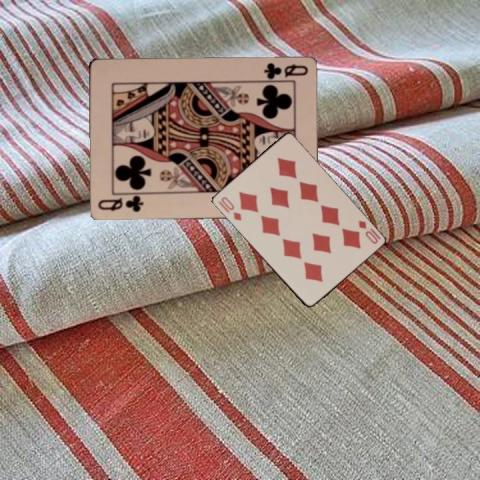10d: (214, 193, 242, 222), (355, 218, 382, 246)
Qc: (260, 60, 308, 81), (94, 194, 144, 213)
